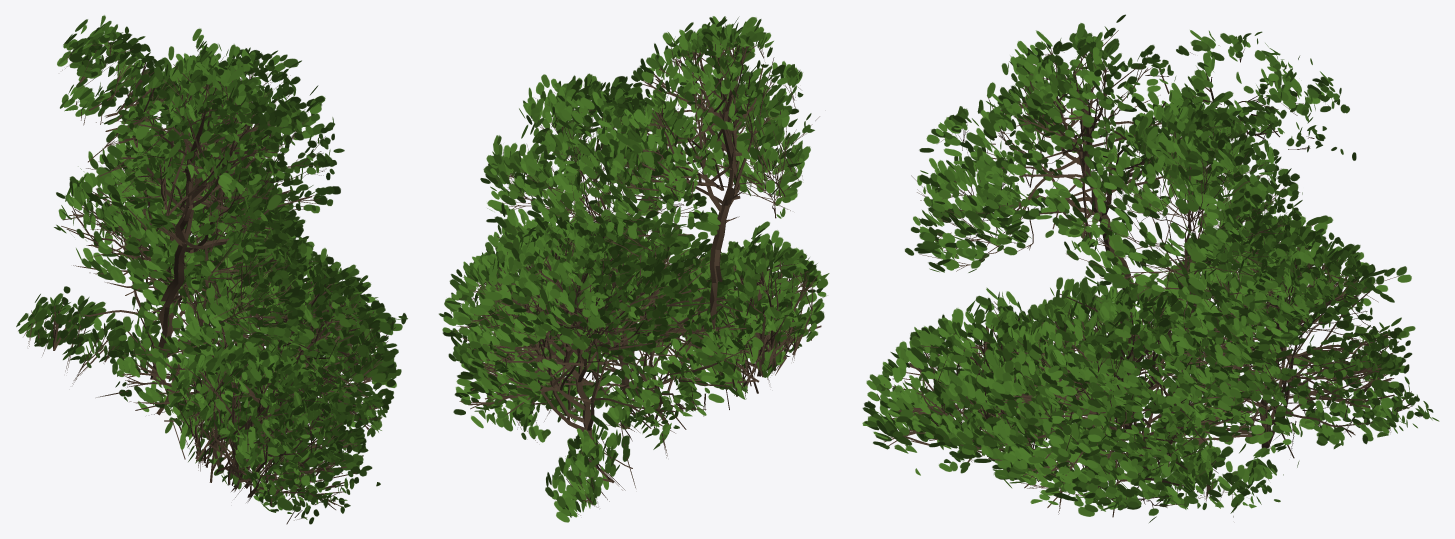
The picture shows the model from 3 angles, left to right: view 1: azimuth 30°, elevation 25°; view 2: azimuth 150°, elevation 25°; view 3: azimuth 270°, elevation 25°; orthographic projection. The views are drawn at different scales.
Visible parts, largest first — view 1: oak 01.001_trunk_Mat.001_0.400; view 2: oak 01.001_trunk_Mat.001_0.400; view 3: oak 01.001_trunk_Mat.001_0.400.
Part boxes in pixels (bbox=[...]): oak 01.001_trunk_Mat.001_0.400: bbox=[16, 15, 407, 524]; oak 01.001_trunk_Mat.001_0.400: bbox=[439, 16, 829, 522]; oak 01.001_trunk_Mat.001_0.400: bbox=[862, 14, 1439, 522].
Size of the model in its own units: 2.42 by 3.95 by 4.83.
2 materials, 1 textured.
